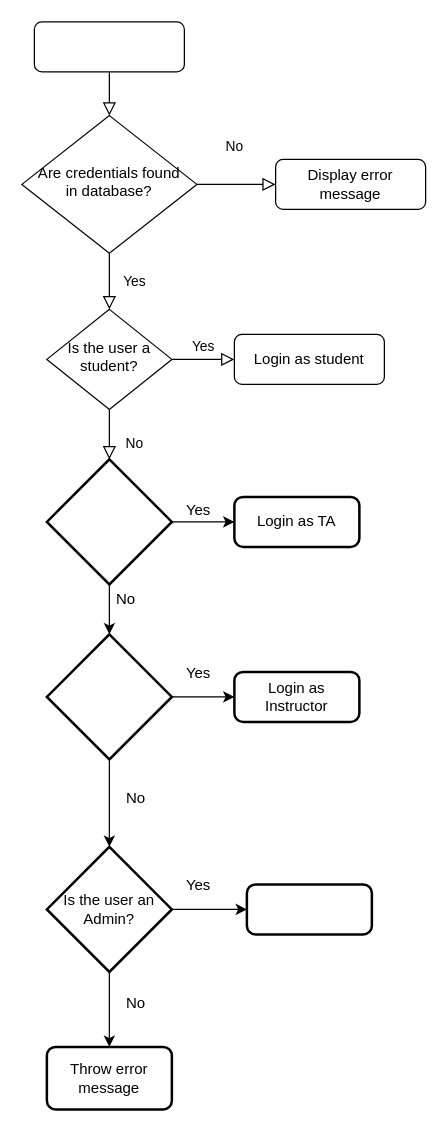
Some shapes in this 448 by 1133 pixel diagram are drawn without their labels. The shapes that lost their labels are listed below. From the top down, each one's centre as x and y in pixels, then its label:
At pixel 108 46: "User enters login data".
At pixel 108 521: "Is the user a TA?".
At pixel 108 696: "Is the user a Instructor?".
At pixel 308 908: "Login as Admin".
